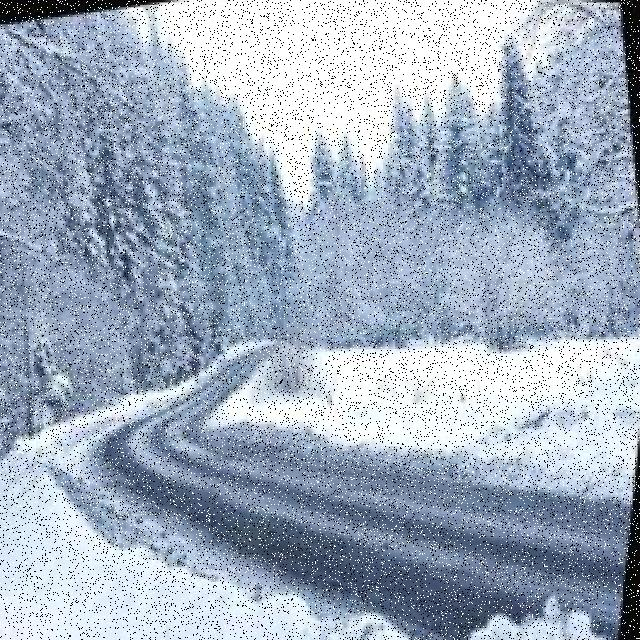ice-road: (113, 342, 640, 640)
